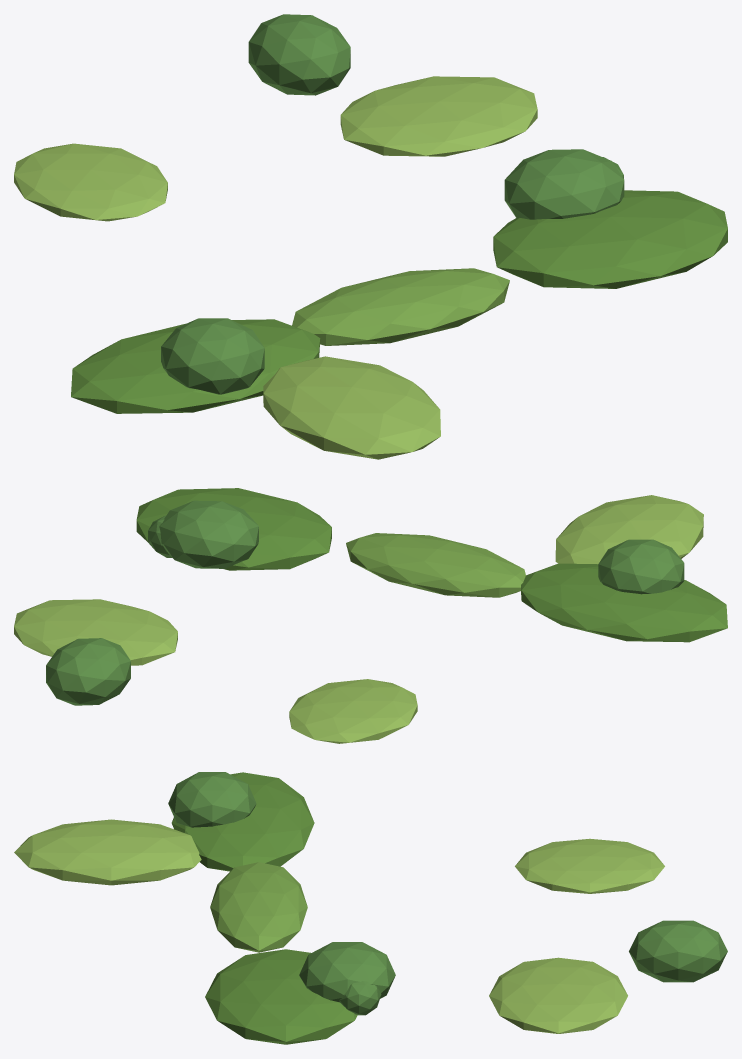
Rendered from Kir_cimen_calili_5.fbx.
3 views of the same model, one above another, from view 1: azimuth 30°, elevation 25°; view 2: azimuth 150°, elevation 25°; view 3: azimuth 270°, elevation 25° (orthographic). The views are drawn at different scales.
Parts seen in each view (by area): view 1: Kir_cimen_calili_5; view 2: Kir_cimen_calili_5; view 3: Kir_cimen_calili_5.
Part boxes in pixels (left/top/right/bottom): Kir_cimen_calili_5: left=14, top=14, right=727, bottom=459; Kir_cimen_calili_5: left=14, top=488, right=727, bottom=743; Kir_cimen_calili_5: left=14, top=772, right=727, bottom=1044.
Bounding box in the file's own units: 16.82 × 1.88 × 18.93.
